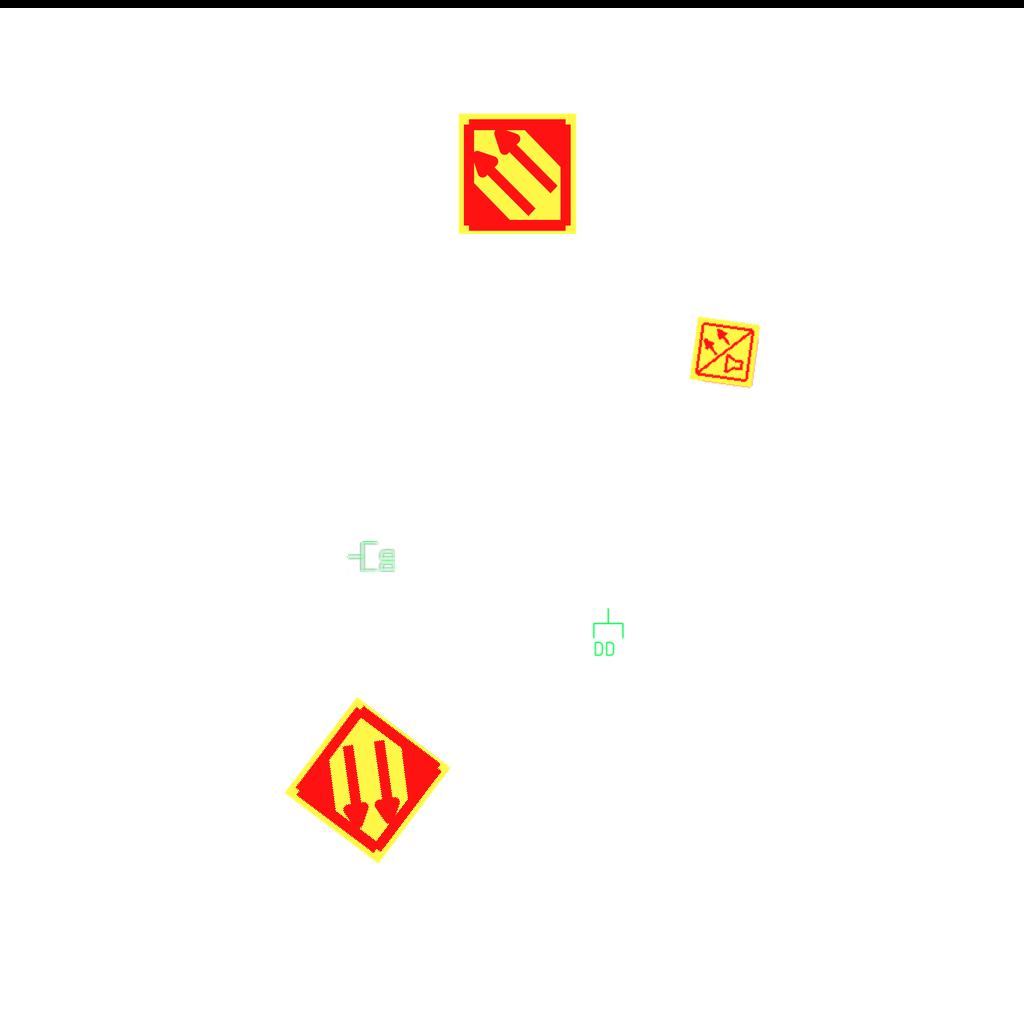ASR_Ansaugrauchmelder: (279, 692, 456, 869), (455, 111, 580, 236)
Datenanschluss_zweifach: (346, 540, 397, 574), (591, 607, 625, 658)
OKW_Multisensormelder_(Kombination_optischer_Rauch-Kahlenmonoxid_Waerme-Melder): (687, 314, 763, 390)
